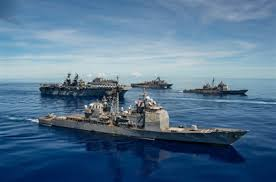tau_muctieu: (44, 96, 238, 146), (36, 73, 132, 97), (185, 78, 248, 95), (132, 72, 175, 90)
